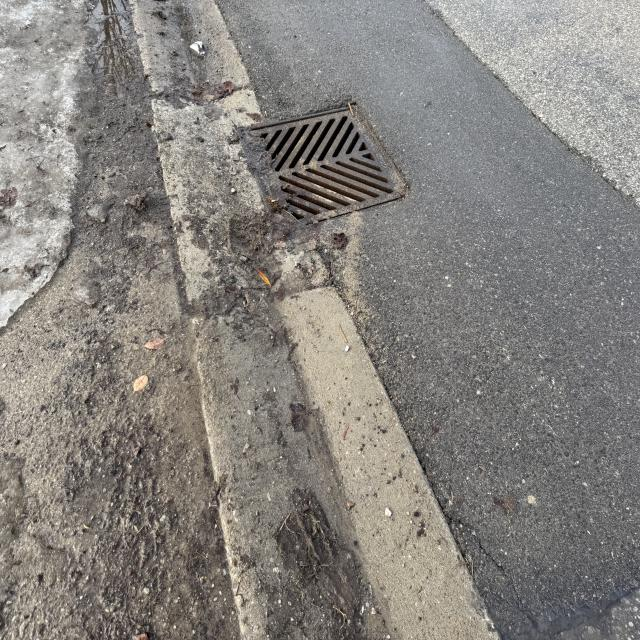Manhole: (225, 95, 413, 228)
